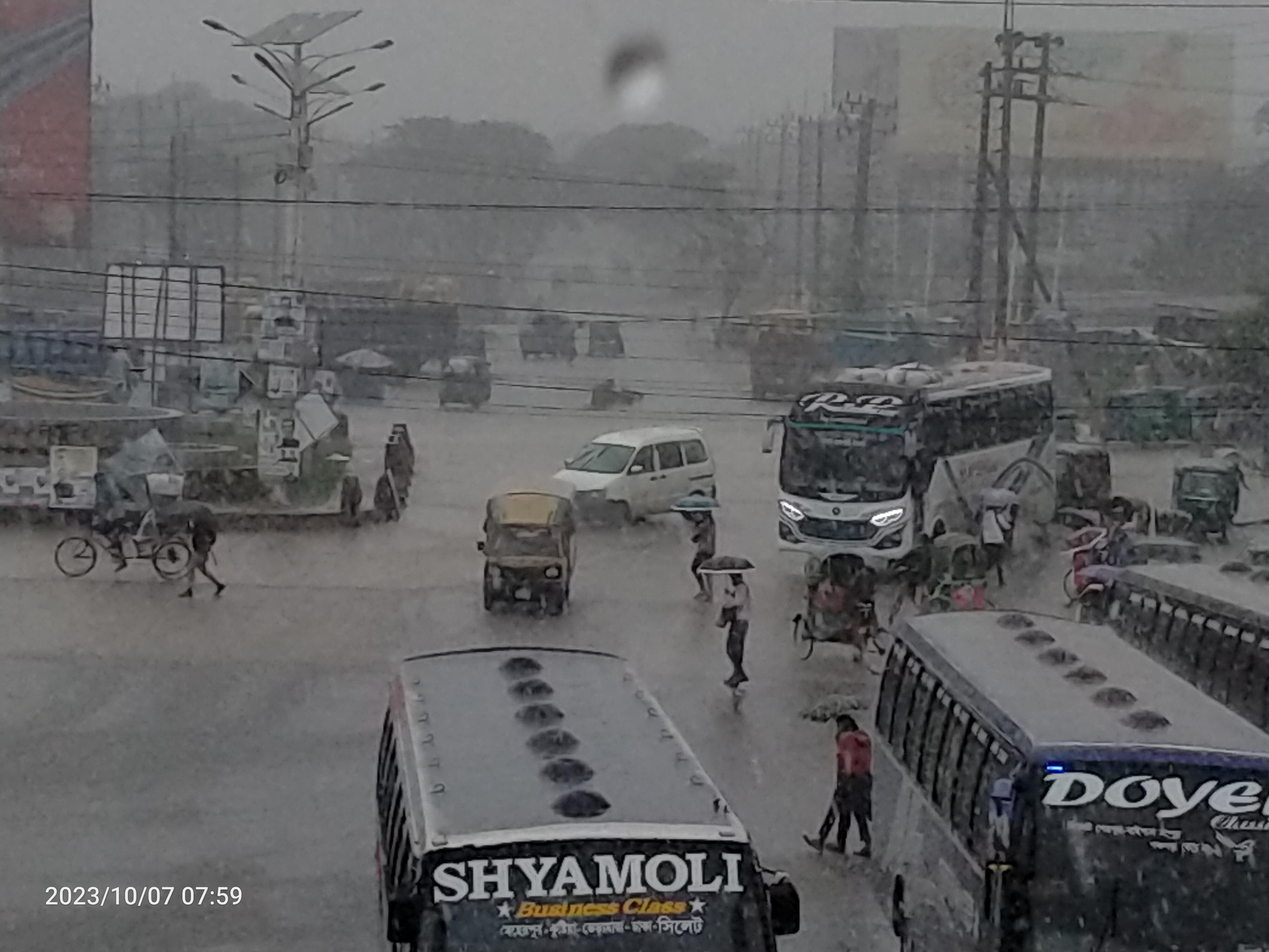Bus: (328, 631, 826, 952), (851, 601, 1269, 952), (742, 341, 1063, 572), (2, 314, 139, 429)
Car: (38, 448, 198, 597), (550, 423, 731, 544), (468, 483, 595, 622), (790, 545, 905, 675)
